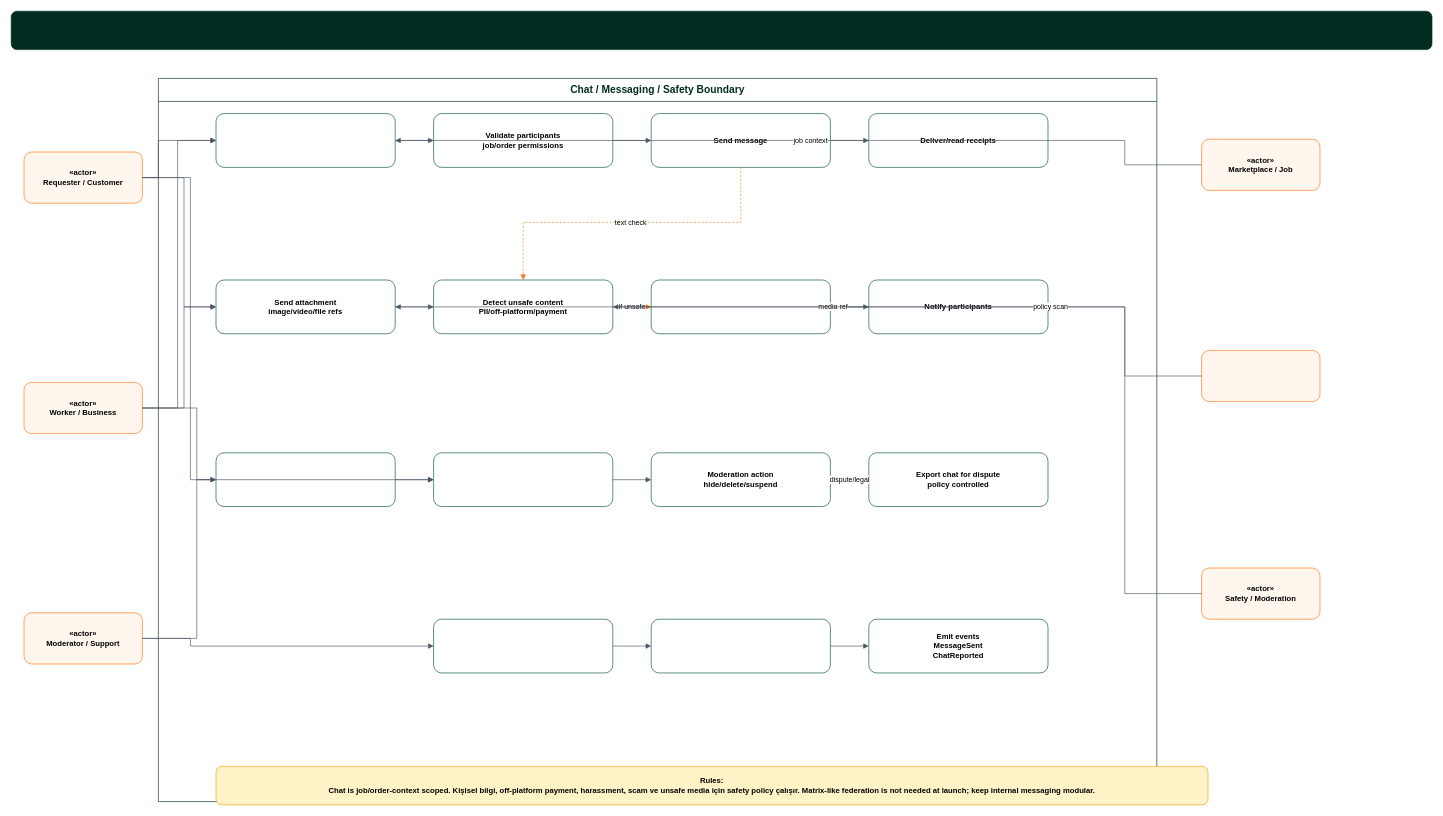
This 1443x816 diagram has some shape labels left out. Here are the shapes that lost their labels. From the top down, the box of each, then its label:
(11, 11, 1432, 50): Viaverse Chat / Messaging / Safety — Use Case Diagram
(215, 113, 395, 167): Open job conversation context-scoped
(651, 279, 830, 334): Block/warn/rate-limit
(1201, 350, 1320, 402): «actor» Media / CDN
(215, 452, 395, 507): Report conversation/message
(433, 452, 613, 507): Moderator review scoped access
(433, 619, 613, 673): Manage chat safety policy
(651, 619, 830, 673): Retention/deletion KVKK-aware
